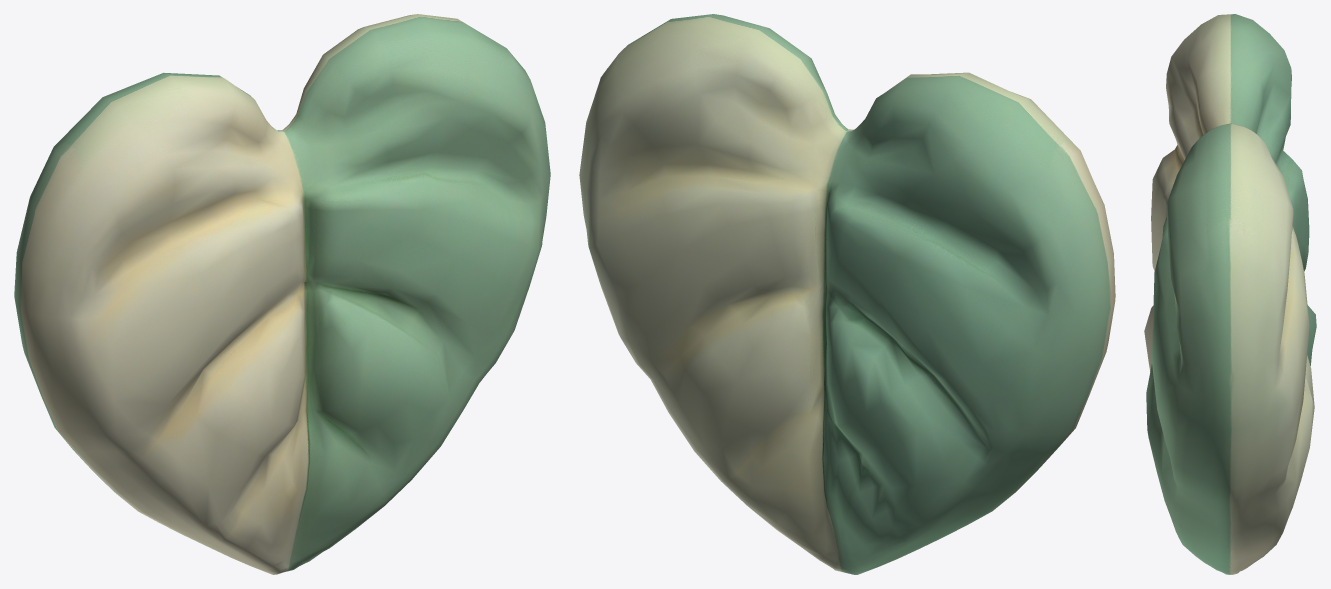
The model's file is heart_halfmoon_v2.glb.
The picture shows the model from 3 angles, left to right: view 1: azimuth 30°, elevation 25°; view 2: azimuth 150°, elevation 25°; view 3: azimuth 270°, elevation 25°; orthographic projection. The views are drawn at different scales.
Size of the model in its own units: 2 by 1.9 by 0.6063.
Materials: 1 (1 with a texture image).
